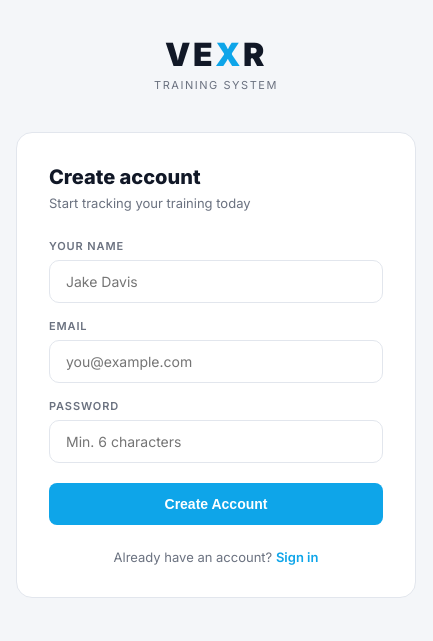
Test: Signup page › shows error when signUp throws
The image size is (433, 641).
Type "Jacob" into the field with placeholder "Jake Davis" at coordinates (216, 281), box [49, 260, 383, 302]
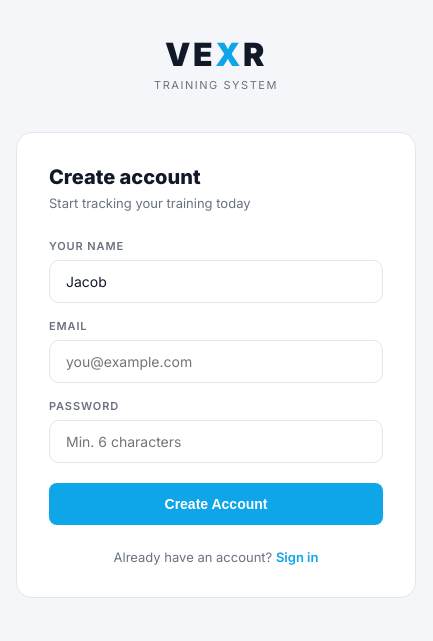
Type "taken@example.com" into the field with placeholder "you@example.com" at coordinates (216, 361), box [49, 340, 383, 382]
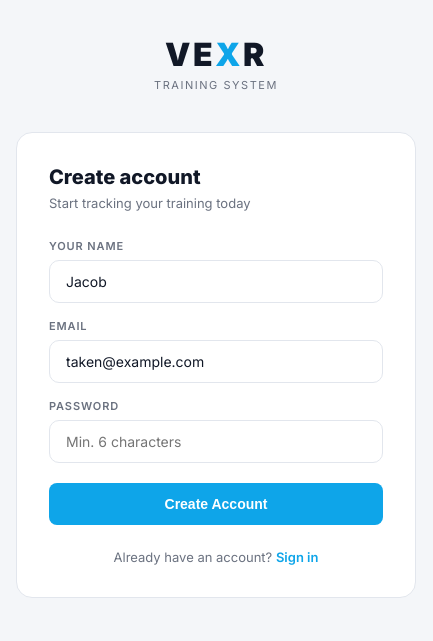
Type "password123" into the password field with placeholder "Min. 6 characters" at coordinates (216, 441), box [49, 420, 383, 462]
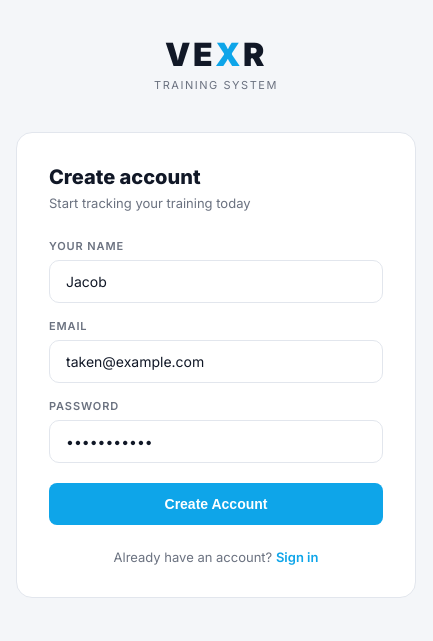
Click the button "Create Account" at coordinates (216, 504), box [49, 482, 383, 524]
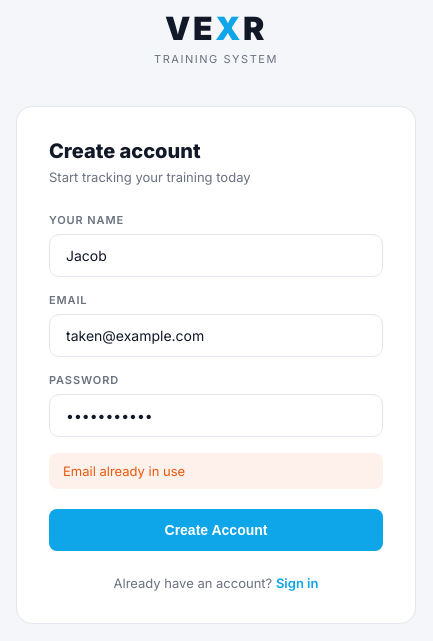
Check: the text "Email already in use" is shown, box [49, 452, 383, 488]
